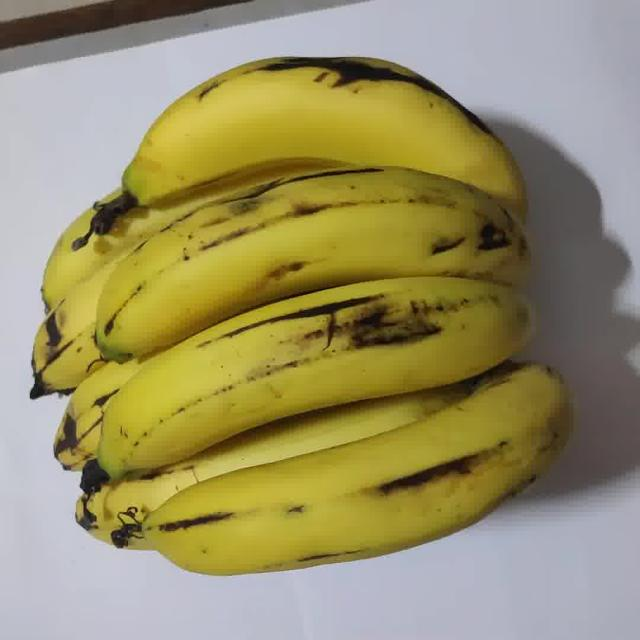banana_pacche: (16, 59, 570, 595)
